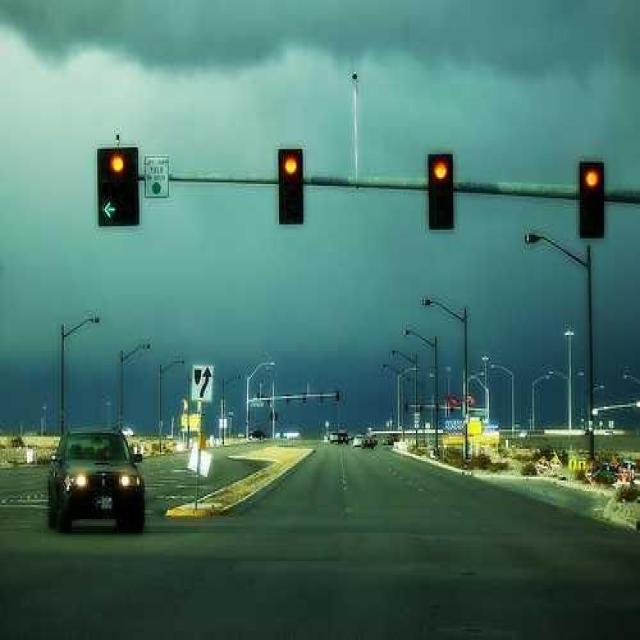Traffic Light -Red-: (98, 143, 129, 232), (276, 145, 304, 228), (578, 160, 606, 242), (426, 151, 454, 231)
